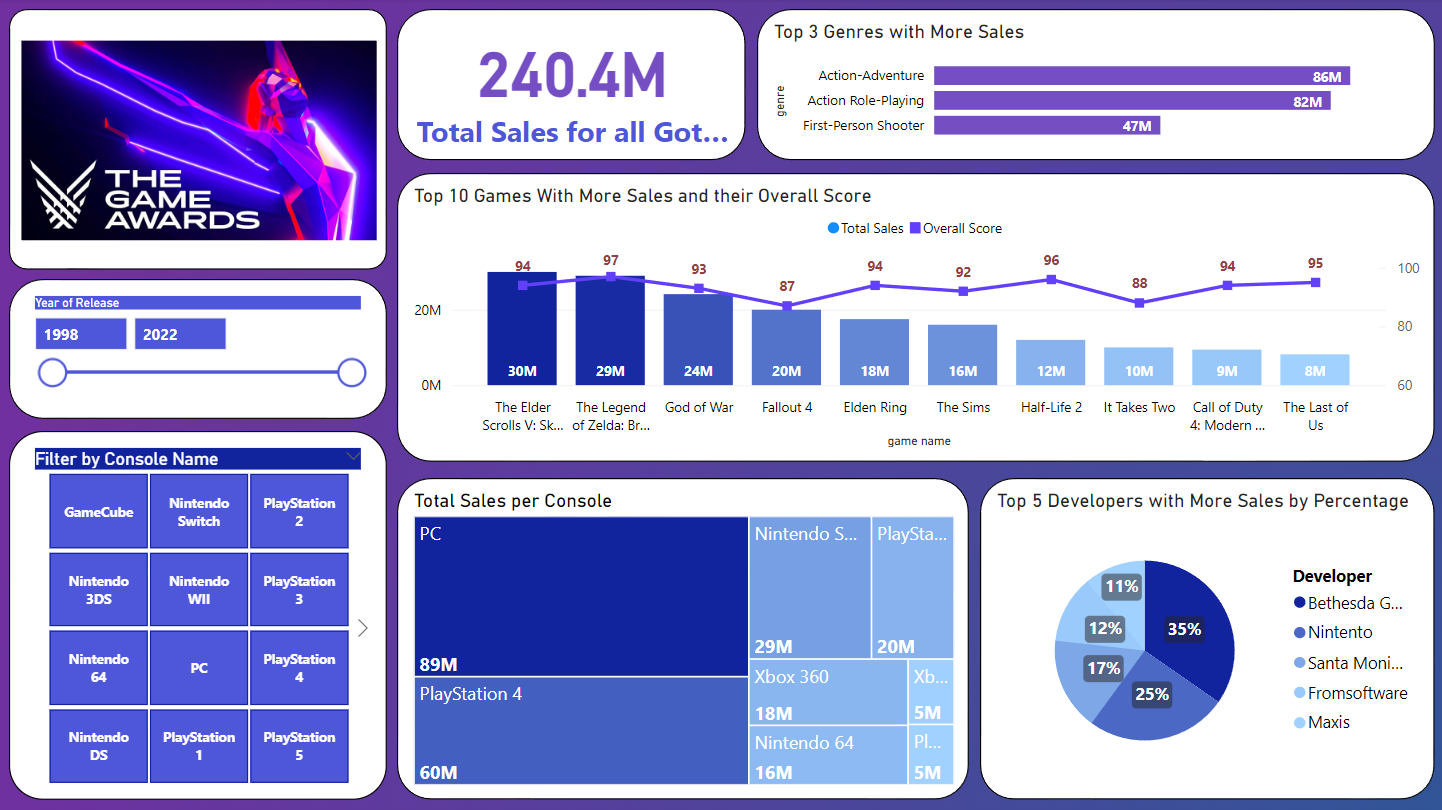

What the dashboard file says about the page in this screenshot:
{"tool":"powerbi","page":{"name":"Página 1","canvas":[1280,720],"ordinal":0},"visuals":[{"type":"image","box":[0,0,352.1,240.3],"z":0},{"type":"slicer","fields":{"Values":["game.year_of_release"]},"box":[0,240.3,352.1,158.1],"z":1000},{"type":"slicer","fields":{"Values":["consoles.console"]},"box":[0,398,352.5,322.2],"z":2000},{"type":"lineStackedColumnComboChart","title":"Top 10  Games With More Sales and their Overall Score","fields":{"Category":["game.game name"],"Y":["Sum(game.sales)"],"Y2":["Avg(game.score)"]},"box":[352.5,150.4,927.5,278],"z":3000},{"type":"treemap","title":"Total Sales per Console","fields":{"Values":["Sum(game.sales)"],"Group":["consoles.console"]},"box":[352.5,428.4,463.7,291.9],"z":4000},{"type":"card","title":"Total Sales for all GOTY´S","fields":{"Values":["Sum(game.sales)"]},"box":[352.5,0,327.3,150.4],"z":5000},{"type":"pieChart","title":"Top 5 Developers with More Sales by Percentage","fields":{"Category":["developer.developer"],"Y":["Sum(game.sales)"]},"box":[816.3,428.4,463.7,291.9],"z":6000},{"type":"barChart","title":"Top 3 Genres with More Sales","fields":{"Category":["genre.genre"],"Y":["Sum(game.sales)"]},"box":[679.8,0,600.2,150.4],"z":7000}]}

Visuals, with their boxes in screenshot pixels (x1, y1, x2, y2), scaled from the page's 1280x720 canvas onto the 1442x810 screenshot:
image: <bbox>0, 0, 397, 270</bbox>
slicer - game.year_of_release: <bbox>0, 270, 397, 448</bbox>
slicer - consoles.console: <bbox>0, 448, 397, 809</bbox>
"Top 10  Games With More Sales and their Overall Score" lineStackedColumnComboChart: <bbox>397, 169, 1441, 482</bbox>
"Total Sales per Console" treemap: <bbox>397, 482, 920, 809</bbox>
"Total Sales for all GOTY´S" card: <bbox>397, 0, 766, 169</bbox>
"Top 5 Developers with More Sales by Percentage" pieChart: <bbox>920, 482, 1441, 809</bbox>
"Top 3 Genres with More Sales" barChart: <bbox>766, 0, 1441, 169</bbox>
